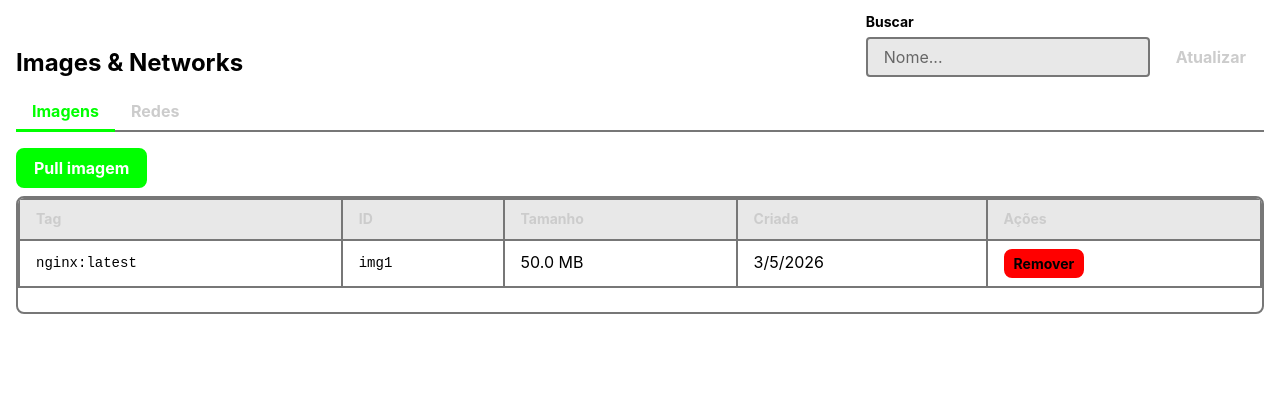
it: ImagesNetworks › tree toggle shows tree for networks tab
The image size is (1280, 394).
Note: Switch to Networks tab
What coordinates should you click on to do the following:
click the tab "Redes"
I would click on:
 (155, 113)
Its box is [115,93,195,132].
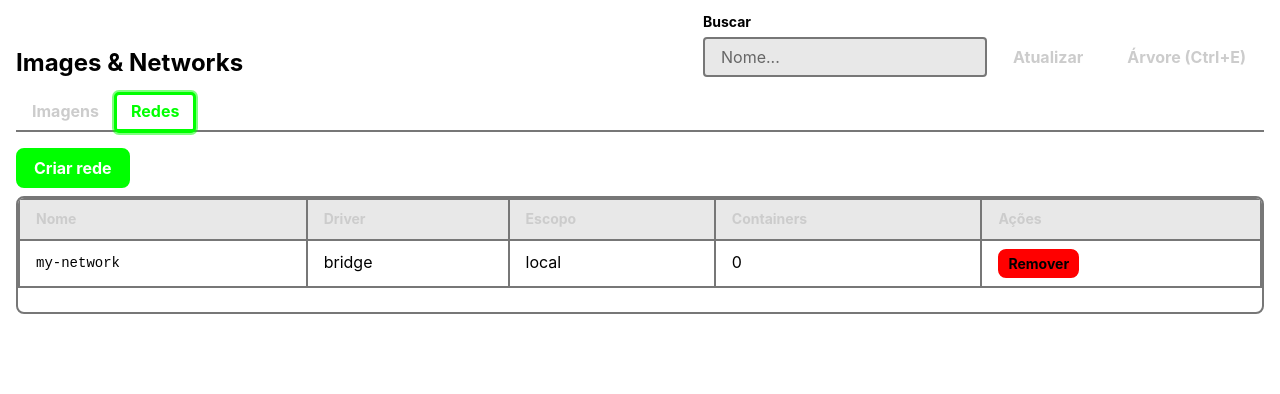
Note: Click tree toggle button
What coordinates should you click on to do the following:
click the button "Árvore (Ctrl+E)"
I would click on:
 (1187, 57)
Its box is [1109,37,1264,77].
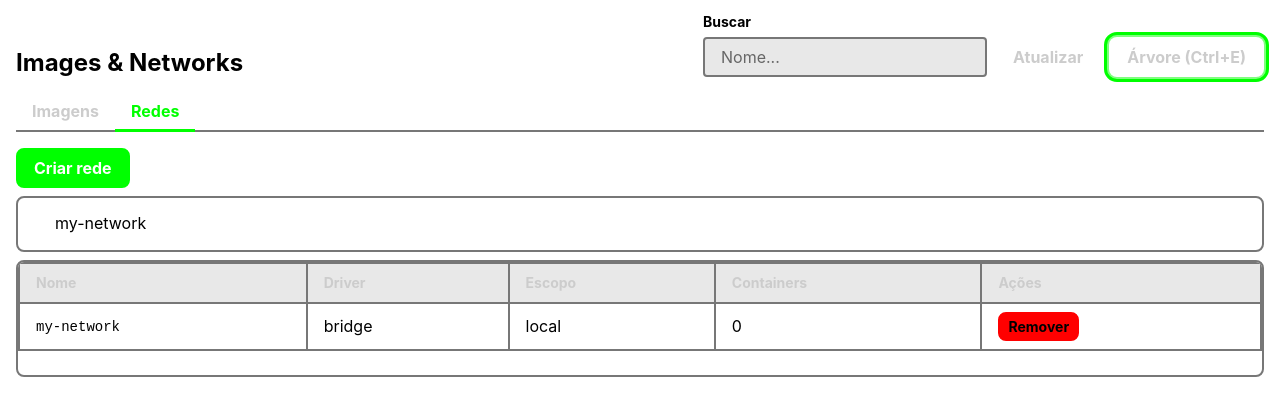
expect the list with test id "network-tree" is shown: met, box [55,213,146,233]
